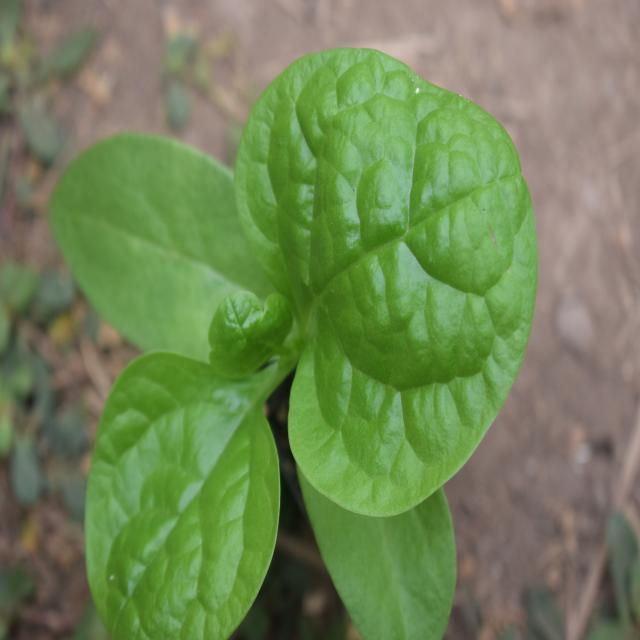Ceylon spinach: (72, 54, 512, 612)
